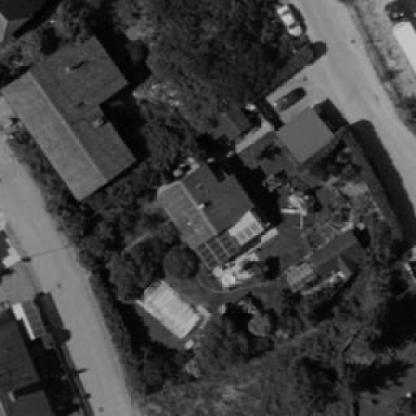solar-pv-panel: (194, 229, 241, 270)
